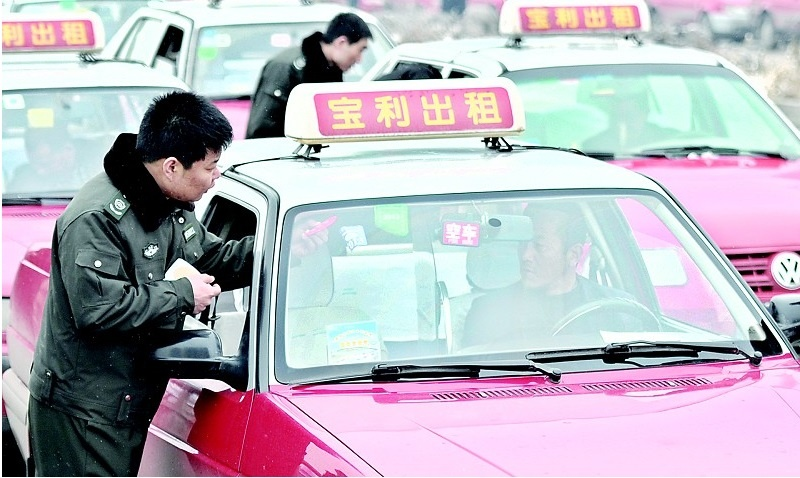taxi: (212, 73, 773, 478)
